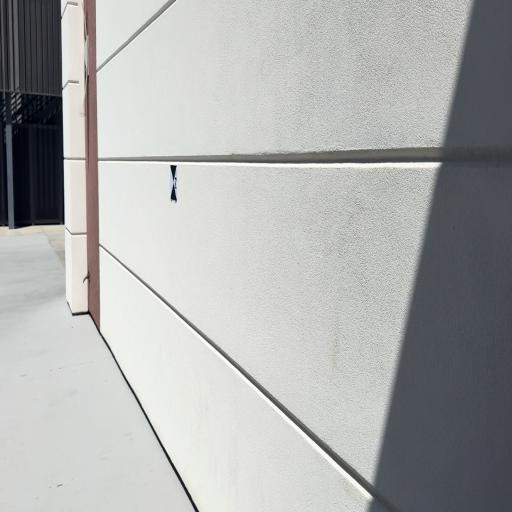target7: (170, 164, 178, 200)
